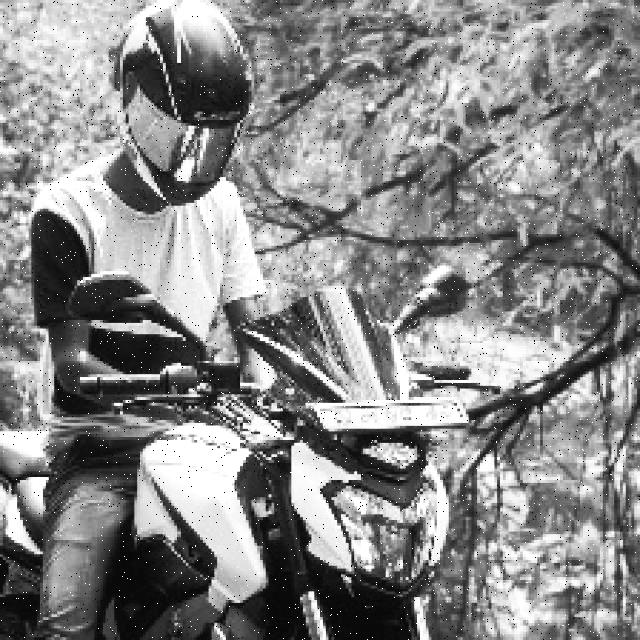Bike: (24, 312, 480, 635)
